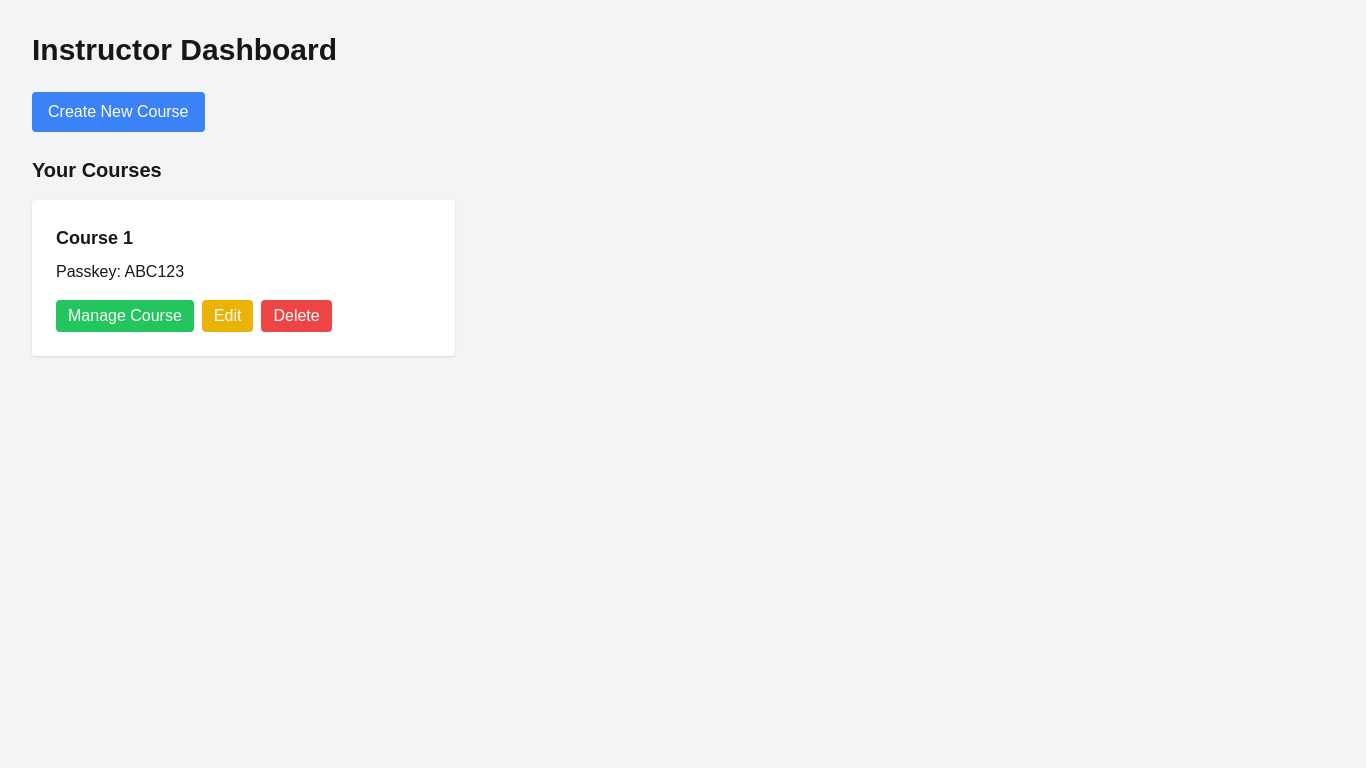
Test: InstructorDashboard › opens edit modal with correct course details
The image size is (1366, 768).
Expected: the heading "Course 1" is shown, left=56, top=228, right=133, bottom=248
Click the button "Edit": click(228, 316) left=202, top=300, right=253, bottom=332
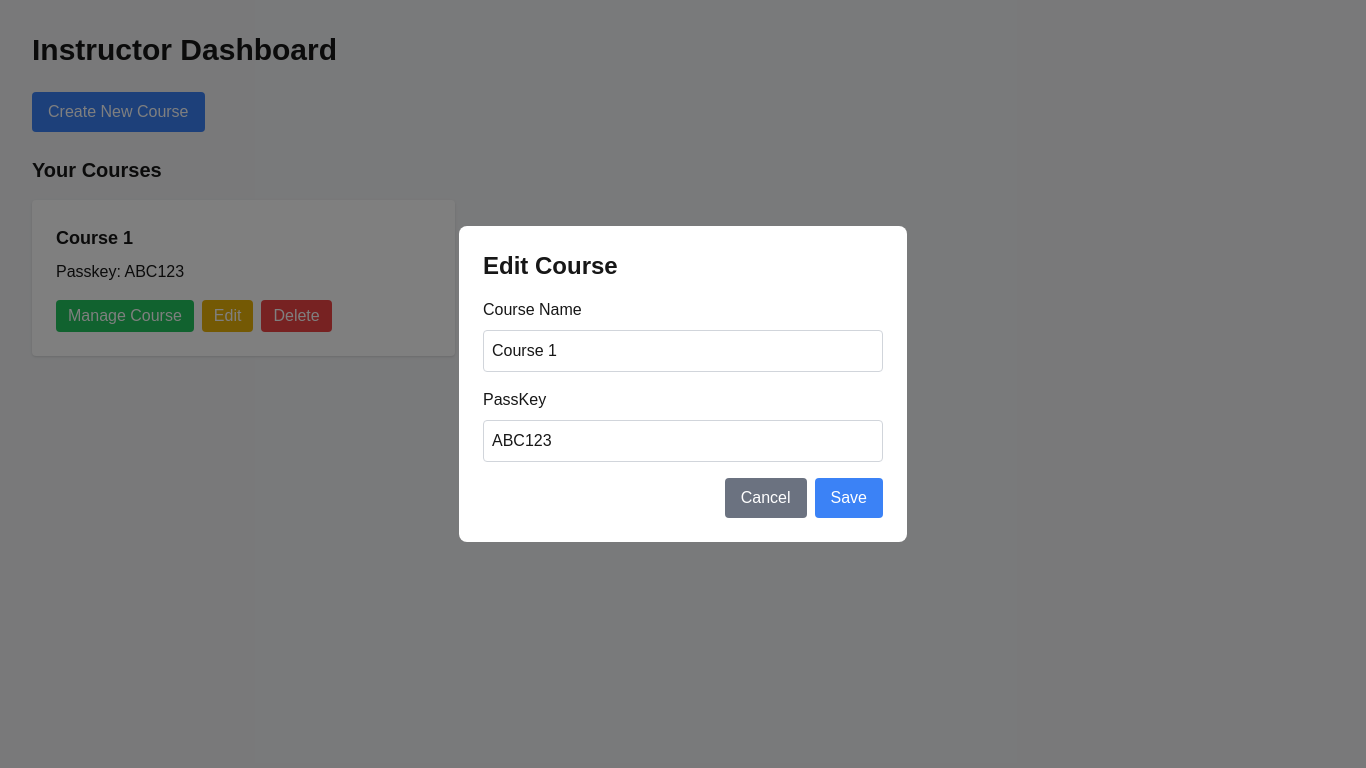
Result: the heading "Edit Course" is shown at left=483, top=252, right=618, bottom=279
Result: the field showing "Course 1" below "Course Name" is shown at left=483, top=330, right=883, bottom=372
Result: the 2nd field showing "ABC123" is shown at left=483, top=420, right=883, bottom=462
